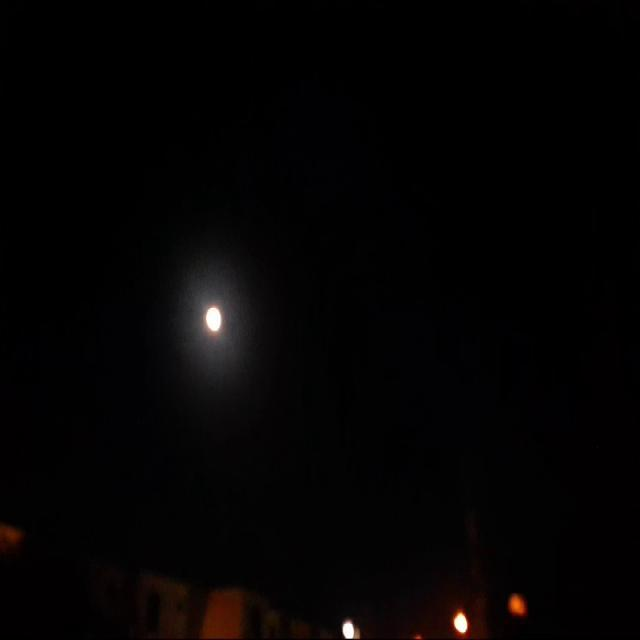moon: (201, 303, 223, 342)
